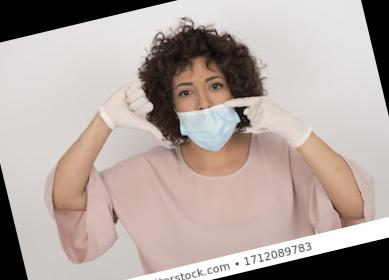mask_weared_incorrect: (171, 72, 243, 155)
